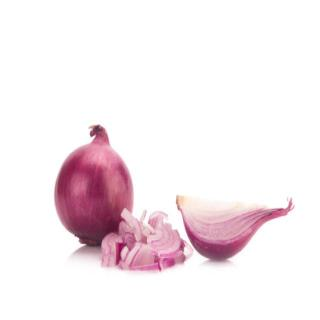Bawang Merah: (51, 123, 137, 251)
